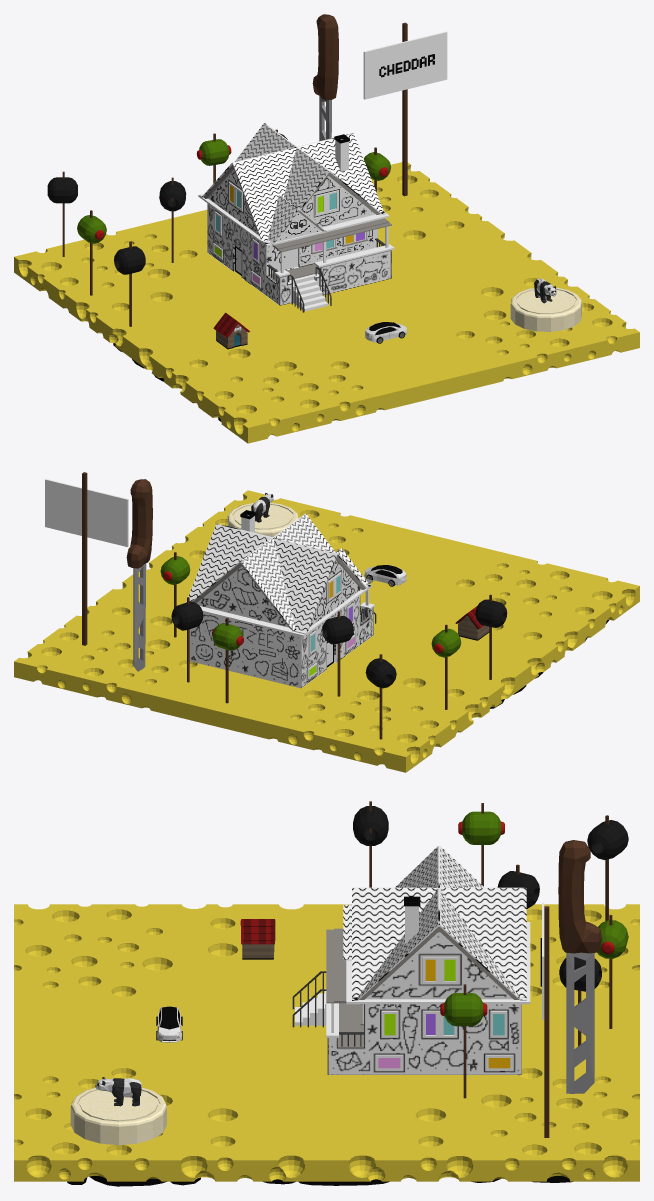
3 renders of one model, top to bottom at view 1: azimuth 30°, elevation 25°; view 2: azimuth 150°, elevation 25°; view 3: azimuth 270°, elevation 25°, orthographic. The views are drawn at different scales.
Parts seen in each view (by area): view 1: Cube.022, Cube.879, Cube.023, Cylinder.016, Cube.024, Sphere.017, Sphere.016, OBJRANDOM_DOGHOUSE, Sphere.020, Sphere.018, Sphere.022, VEHICLES_TESLA (+1 smaller); view 2: Cube.022, Cube.879, Cube.023, Cube.024, Cylinder.016, Sphere.020, Sphere.016, Sphere.022, Sphere.017, Sphere.021, Sphere.018, Sphere.019 (+2 smaller); view 3: Cube.022, Cube.879, Cube.024, Cylinder.016, Cube.023, Sphere.019, Sphere.016, Sphere.018, OBJRANDOM_DOGHOUSE, Curve.014, Sphere.017, Sphere.022 (+4 smaller).
Part boxes in pixels (left/top/right/bottom): Cube.022: left=14, top=162, right=639, bottom=443; Cube.879: left=198, top=123, right=394, bottom=312; Cube.023: left=363, top=22, right=447, bottom=196; Cylinder.016: left=510, top=287, right=581, bottom=331; Cube.024: left=312, top=14, right=338, bottom=141; Sphere.017: left=114, top=241, right=145, bottom=326; Sphere.016: left=47, top=171, right=77, bottom=256; OBJRANDOM_DOGHOUSE: left=213, top=312, right=249, bottom=349; Sphere.020: left=159, top=177, right=186, bottom=262; Sphere.018: left=77, top=210, right=106, bottom=295; Sphere.022: left=196, top=133, right=231, bottom=183; VEHICLES_TESLA: left=365, top=322, right=407, bottom=343; Cube.022: left=14, top=490, right=639, bottom=772; Cube.879: left=185, top=510, right=376, bottom=688; Cube.023: left=45, top=472, right=128, bottom=645; Cube.024: left=126, top=479, right=152, bottom=671; Cylinder.016: left=227, top=502, right=298, bottom=537; Sphere.020: left=322, top=611, right=353, bottom=696; Sphere.016: left=365, top=654, right=396, bottom=739; Sphere.022: left=212, top=618, right=243, bottom=703; Sphere.017: left=475, top=594, right=507, bottom=679; Sphere.021: left=171, top=597, right=203, bottom=682; Sphere.018: left=431, top=624, right=461, bottom=709; Sphere.019: left=160, top=552, right=190, bottom=637; Cube.022: left=14, top=904, right=639, bottom=1181; Cube.879: left=292, top=846, right=530, bottom=1074; Cube.024: left=558, top=840, right=602, bottom=1093; Cylinder.016: left=70, top=1087, right=166, bottom=1145; Cube.023: left=540, top=902, right=549, bottom=1137; Sphere.019: left=440, top=984, right=487, bottom=1098; Sphere.016: left=587, top=815, right=628, bottom=920; Sphere.018: left=458, top=803, right=504, bottom=886; OBJRANDOM_DOGHOUSE: left=240, top=919, right=275, bottom=959; Curve.014: left=67, top=1176, right=572, bottom=1186; Sphere.017: left=353, top=801, right=388, bottom=887; Sphere.022: left=597, top=915, right=628, bottom=1028.
Bounding box in the file's own units: 3917 × 1980 × 4000.
38 materials, 10 textured.
